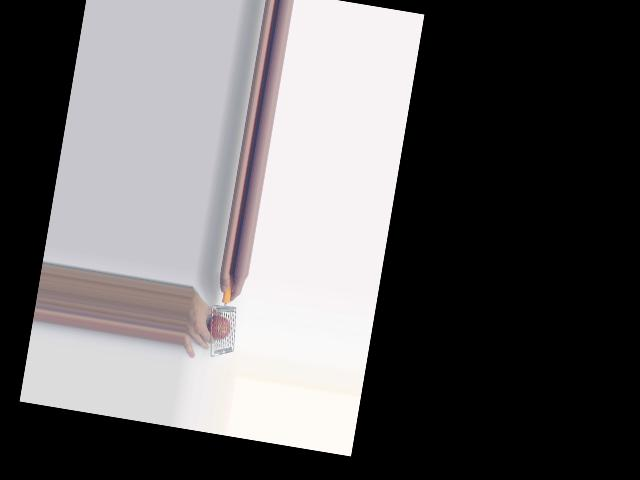tomato: (206, 313, 232, 341)
